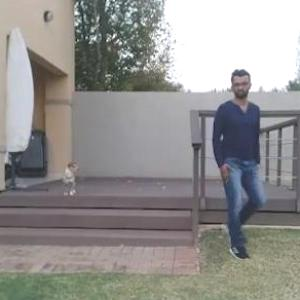follow: (198, 62, 262, 271)
